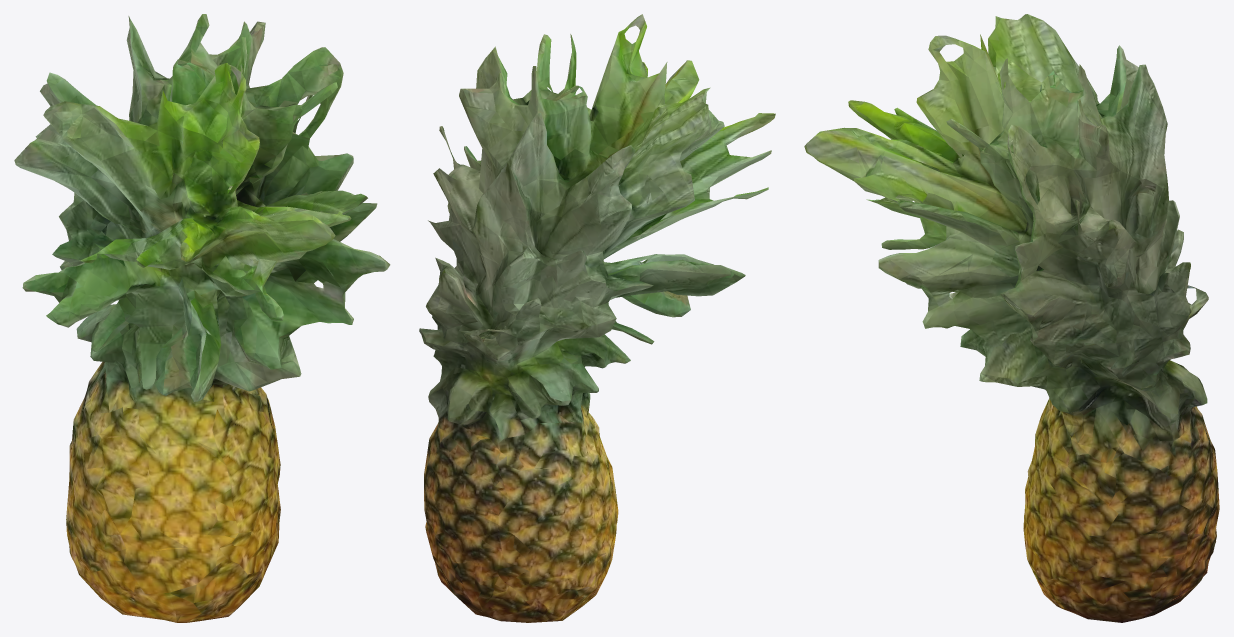
Rendered from realpineapple.glb.
The picture shows the model from 3 angles, left to right: view 1: azimuth 30°, elevation 25°; view 2: azimuth 150°, elevation 25°; view 3: azimuth 270°, elevation 25°; orthographic projection. The views are drawn at different scales.
Visible parts, largest first — view 1: Stereo textured mesh; view 2: Stereo textured mesh; view 3: Stereo textured mesh.
Part boxes in pixels (left/top/right/bottom): Stereo textured mesh: left=14, top=14, right=390, bottom=622; Stereo textured mesh: left=419, top=14, right=775, bottom=622; Stereo textured mesh: left=804, top=14, right=1219, bottom=622.
Size of the model in its own units: 0.1728 by 0.3 by 0.2056.
1 material, 1 textured.
